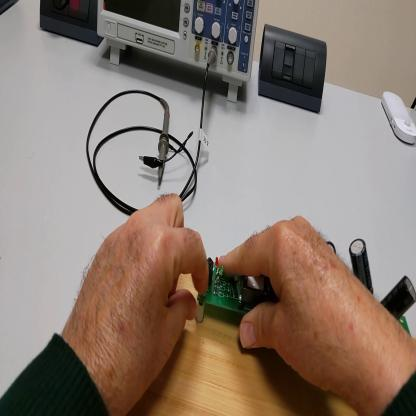hand: (72, 190, 209, 399), (217, 216, 377, 393)
high voltage board: (199, 236, 416, 350)
oscilloscope: (97, 3, 261, 110)
oscilloscope probe tip: (155, 101, 171, 184)
socket: (38, 3, 104, 48), (2, 1, 20, 16)
working area: (129, 274, 359, 415)
